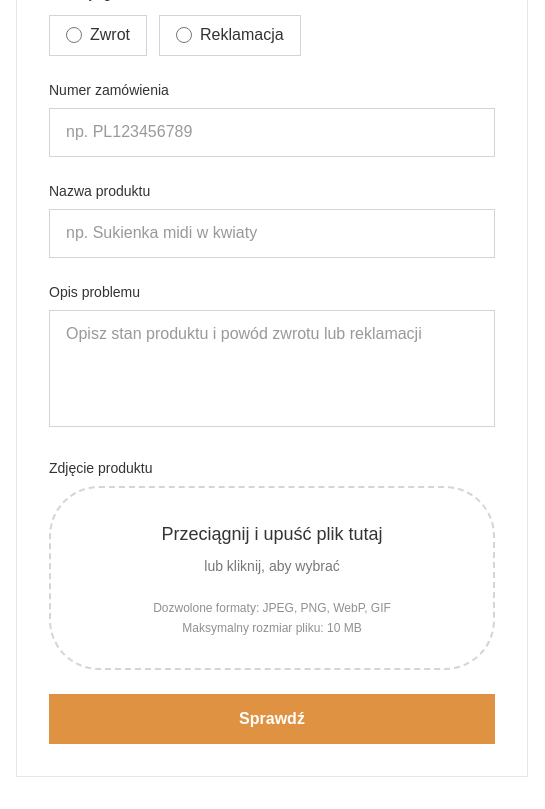
it: IntakeForm › shows 5 validation errors when submitting empty form
(page scrolled)
Step 1. Click the button "Sprawdź" → coordinates (272, 719), box x1=49 y1=694 x2=495 y2=744
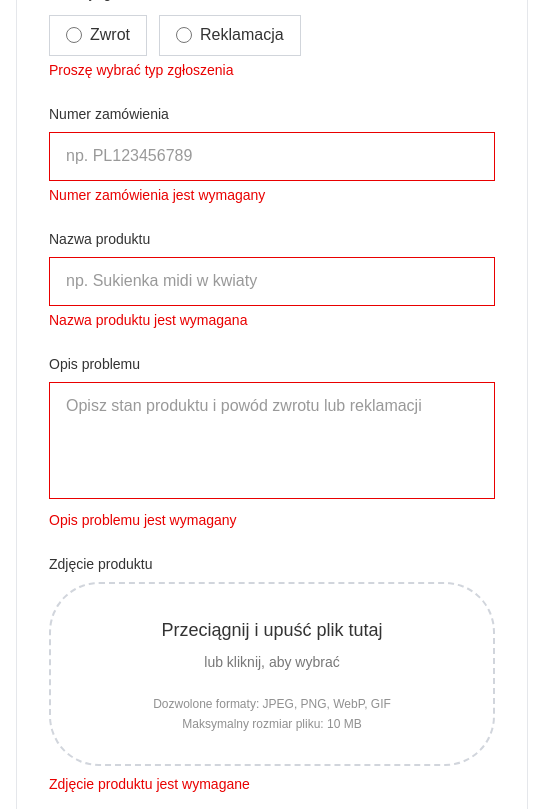
Check: the text "Proszę wybrać typ zgłoszenia" is shown, box x1=49 y1=62 x2=233 y2=78
Check: the text "Numer zamówienia jest wymagany" is shown, box x1=49 y1=187 x2=265 y2=203
Check: the text "Nazwa produktu jest wymagana" is shown, box x1=49 y1=312 x2=247 y2=328
